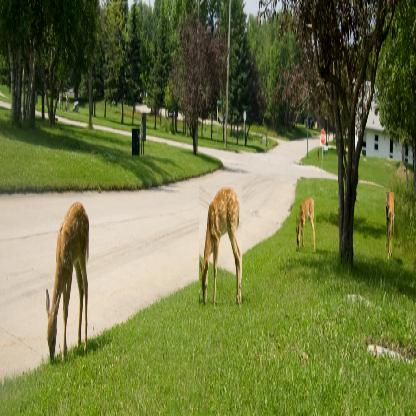Deer: (46, 199, 90, 367), (199, 185, 242, 309), (296, 197, 316, 252), (386, 192, 394, 253)
